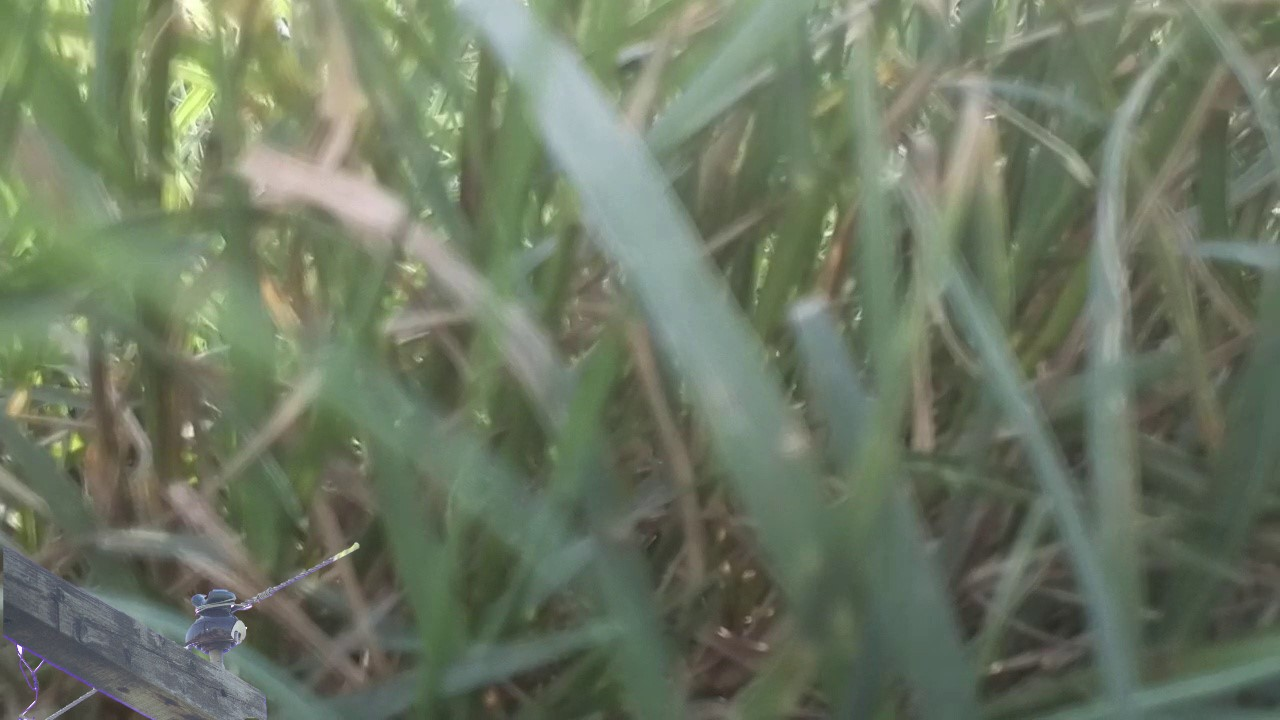defect_pin: (181, 576, 255, 656)
